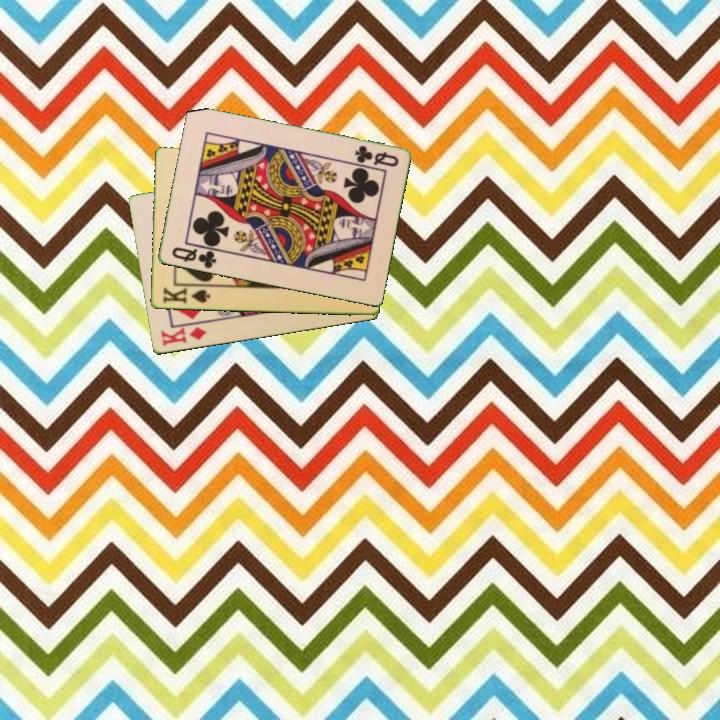Kd: (157, 323, 209, 349)
Ks: (160, 284, 213, 307)
Qc: (168, 244, 222, 272), (351, 142, 401, 170)
